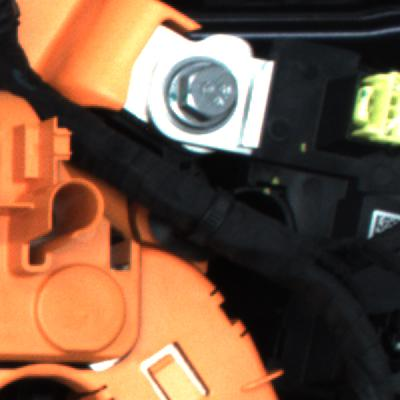nut_b: (168, 52, 249, 142)
